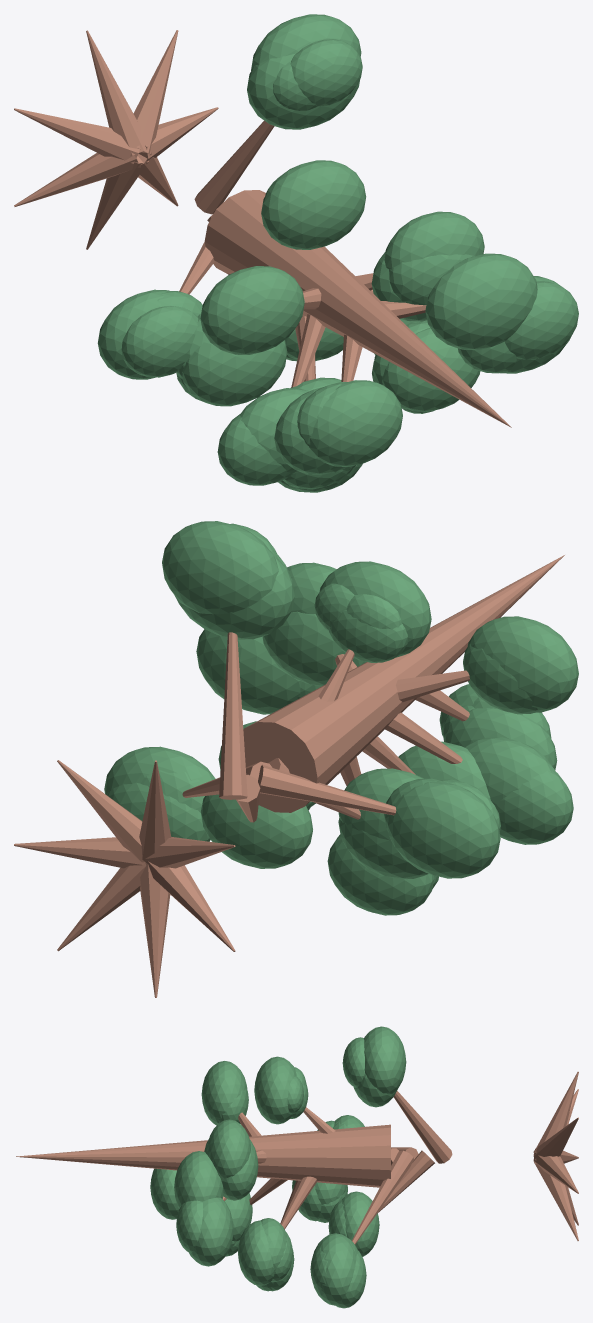
File: Akariz_Tree_Twisted_Canyon.glb
3 views of the same model, one above another, from view 1: azimuth 30°, elevation 25°; view 2: azimuth 150°, elevation 25°; view 3: azimuth 270°, elevation 25° (orthographic). The views are drawn at different scales.
Visible parts, largest first — view 1: Akariz_Tree_Twisted_Canyon_trunk, Akariz_Tree_Twisted_Canyon_leaf9_1, Akariz_Tree_Twisted_Canyon_leaf11_3, Akariz_Tree_Twisted_Canyon_leaf7_1, Akariz_Tree_Twisted_Canyon_leaf0_1, Akariz_Tree_Twisted_Canyon_leaf13_2, Akariz_Tree_Twisted_Canyon_leaf2_2, Akariz_Tree_Twisted_Canyon_leaf14_0, Akariz_Tree_Twisted_Canyon_leaf4_3, Akariz_Tree_Twisted_Canyon_leaf10_3, Akariz_Tree_Twisted_Canyon_leaf8_2, Akariz_Tree_Twisted_Canyon_leaf4_2 (+25 smaller); view 2: Akariz_Tree_Twisted_Canyon_trunk, Akariz_Tree_Twisted_Canyon_leaf4_1, Akariz_Tree_Twisted_Canyon_leaf2_1, Akariz_Tree_Twisted_Canyon_leaf7_1, Akariz_Tree_Twisted_Canyon_leaf3_3, Akariz_Tree_Twisted_Canyon_leaf10_2, Akariz_Tree_Twisted_Canyon_leaf5_2, Akariz_Tree_Twisted_Canyon_leaf1_1, Akariz_Tree_Twisted_Canyon_leaf11_3, Akariz_Tree_Twisted_Canyon_leaf14_2, Akariz_Tree_Twisted_Canyon_leaf4_2, Akariz_Tree_Twisted_Canyon_leaf5_3 (+28 smaller); view 3: Akariz_Tree_Twisted_Canyon_trunk, Akariz_Tree_Twisted_Canyon_leaf4_1, Akariz_Tree_Twisted_Canyon_leaf11_3, Akariz_Tree_Twisted_Canyon_leaf10_2, Akariz_Tree_Twisted_Canyon_leaf12_3, Akariz_Tree_Twisted_Canyon_leaf9_1, Akariz_Tree_Twisted_Canyon_leaf14_0, Akariz_Tree_Twisted_Canyon_leaf7_1, Akariz_Tree_Twisted_Canyon_leaf8_2, Akariz_Tree_Twisted_Canyon_leaf3_3, Akariz_Tree_Twisted_Canyon_branch12, Akariz_Tree_Twisted_Canyon_branch4 (+21 smaller).
Boxes of the visible parts, x1,y1,x2,y2 form: Akariz_Tree_Twisted_Canyon_trunk: (204, 190, 511, 427); Akariz_Tree_Twisted_Canyon_leaf9_1: (425, 253, 537, 350); Akariz_Tree_Twisted_Canyon_leaf11_3: (261, 160, 366, 249); Akariz_Tree_Twisted_Canyon_leaf7_1: (200, 266, 304, 354); Akariz_Tree_Twisted_Canyon_leaf0_1: (309, 380, 402, 466); Akariz_Tree_Twisted_Canyon_leaf13_2: (182, 339, 287, 406); Akariz_Tree_Twisted_Canyon_leaf2_2: (121, 306, 198, 377); Akariz_Tree_Twisted_Canyon_leaf14_0: (384, 211, 484, 269); Akariz_Tree_Twisted_Canyon_leaf4_3: (290, 39, 362, 106); Akariz_Tree_Twisted_Canyon_leaf10_3: (504, 281, 578, 359); Akariz_Tree_Twisted_Canyon_leaf8_2: (382, 328, 480, 411); Akariz_Tree_Twisted_Canyon_leaf4_2: (247, 54, 359, 129); Akariz_Tree_Twisted_Canyon_trunk: (243, 555, 564, 812); Akariz_Tree_Twisted_Canyon_leaf4_1: (162, 521, 278, 614); Akariz_Tree_Twisted_Canyon_leaf2_1: (387, 781, 500, 878); Akariz_Tree_Twisted_Canyon_leaf7_1: (467, 616, 578, 712); Akariz_Tree_Twisted_Canyon_leaf3_3: (201, 794, 312, 868); Akariz_Tree_Twisted_Canyon_leaf10_2: (196, 629, 301, 714); Akariz_Tree_Twisted_Canyon_leaf5_2: (495, 770, 573, 844); Akariz_Tree_Twisted_Canyon_leaf1_1: (327, 835, 434, 915); Akariz_Tree_Twisted_Canyon_leaf11_3: (319, 561, 431, 657); Akariz_Tree_Twisted_Canyon_leaf14_2: (262, 611, 366, 686); Akariz_Tree_Twisted_Canyon_leaf4_2: (174, 551, 294, 639); Akariz_Tree_Twisted_Canyon_leaf5_3: (465, 737, 555, 806); Akariz_Tree_Twisted_Canyon_trunk: (16, 1124, 390, 1187); Akariz_Tree_Twisted_Canyon_leaf4_1: (364, 1026, 406, 1093); Akariz_Tree_Twisted_Canyon_leaf11_3: (254, 1056, 296, 1124); Akariz_Tree_Twisted_Canyon_leaf10_2: (189, 1197, 233, 1266); Akariz_Tree_Twisted_Canyon_leaf12_3: (313, 1233, 356, 1305); Akariz_Tree_Twisted_Canyon_leaf9_1: (174, 1151, 223, 1208); Akariz_Tree_Twisted_Canyon_leaf14_0: (207, 1119, 250, 1178); Akariz_Tree_Twisted_Canyon_leaf7_1: (201, 1061, 247, 1125); Akariz_Tree_Twisted_Canyon_leaf8_2: (238, 1220, 274, 1285); Akariz_Tree_Twisted_Canyon_leaf3_3: (342, 1191, 379, 1256); Akariz_Tree_Twisted_Canyon_branch12: (352, 1150, 414, 1244); Akariz_Tree_Twisted_Canyon_branch4: (393, 1091, 452, 1163).
Bounding box in the file's own units: 4.43 × 4.49 × 8.24.
